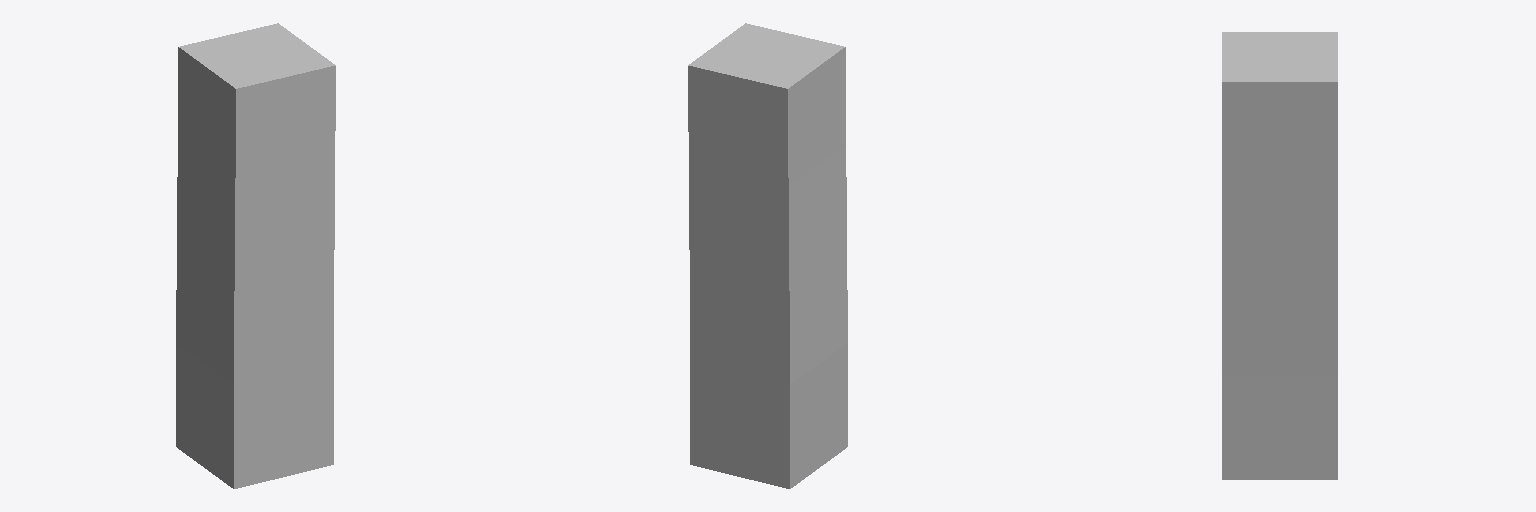
The model's file is Animation_000040.obj.
3 renders of one model, left to right at view 1: azimuth 30°, elevation 25°; view 2: azimuth 150°, elevation 25°; view 3: azimuth 270°, elevation 25°, orthographic.
Parts seen in each view (by area): view 1: Cube; view 2: Cube; view 3: Cube.
Boxes of the visible parts, x1=… form: Cube: x1=176, y1=23, x2=335, y2=488; Cube: x1=688, y1=23, x2=847, y2=488; Cube: x1=1222, y1=32, x2=1337, y2=479.
Size of the model in its own units: 1.36 by 5.1 by 1.33.